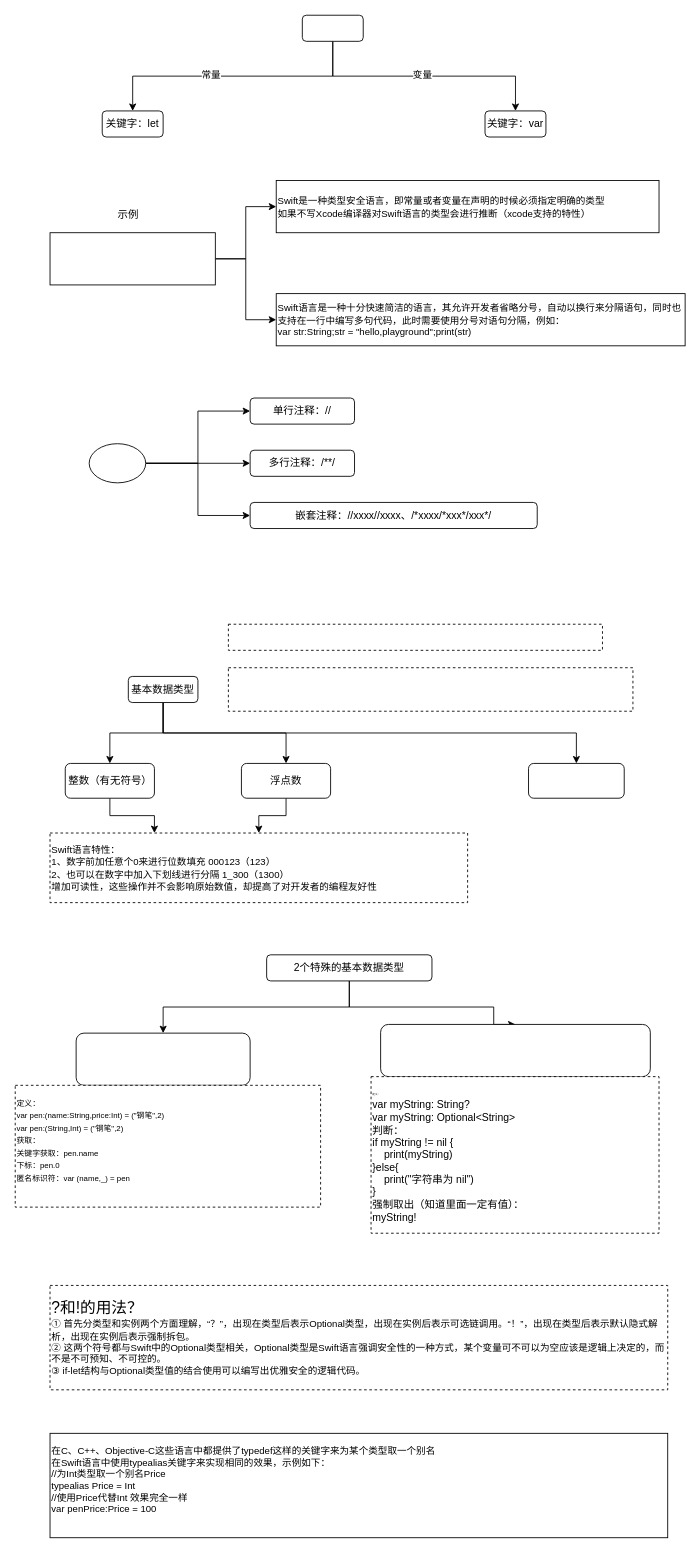
The diagram is 700 pixels wide and 1553 high, and some of its shapes have lost their labels. The box of each missing label's shape, as (x1, y1, x2, y2) in pixels:
var str:String str ="hello,playground" print(str): (49, 232, 215, 285)
二进制位（bit） 计算机内存中最小的数据运算单元，其只 有两种状态：0或者1。 字节（ B）是最小的数据存储单元，1个字节由8个二 进制运算位组成。: (228, 667, 633, 711)
元组 不同数据类型组成的集合: (75, 1032, 250, 1085)
可选值类型 （Optional类型） 逻辑上可以为nil的类型（默认swift不允许普通变量为nil）: (380, 1024, 650, 1077)
布尔（true、false）: (528, 763, 624, 798)
注释: (88, 443, 146, 483)
相同类型归类，可以优化内存使用，因为不同的类型占用的内存是不一样的: (228, 623, 602, 650)
量值: (301, 14, 363, 41)
